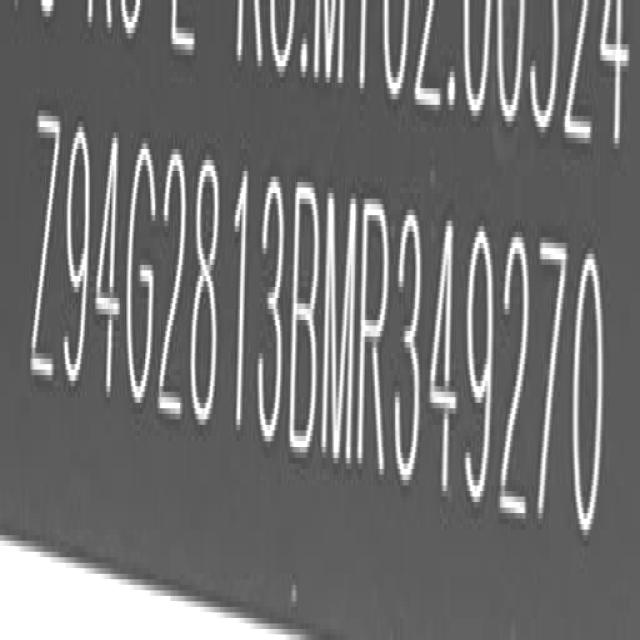0: (572, 242, 605, 539)
1: (231, 164, 252, 442)
2: (500, 228, 533, 526), (158, 138, 188, 424)
3: (393, 205, 425, 492), (259, 168, 286, 450)
4: (95, 123, 125, 404), (431, 214, 459, 501)
7: (537, 236, 571, 537)
8: (192, 151, 220, 427)
9: (465, 221, 494, 509), (64, 116, 92, 400)
B: (291, 175, 322, 465)
G: (122, 125, 157, 412)
M: (320, 185, 357, 475)
R: (359, 193, 391, 480)
Z: (31, 105, 62, 397)
